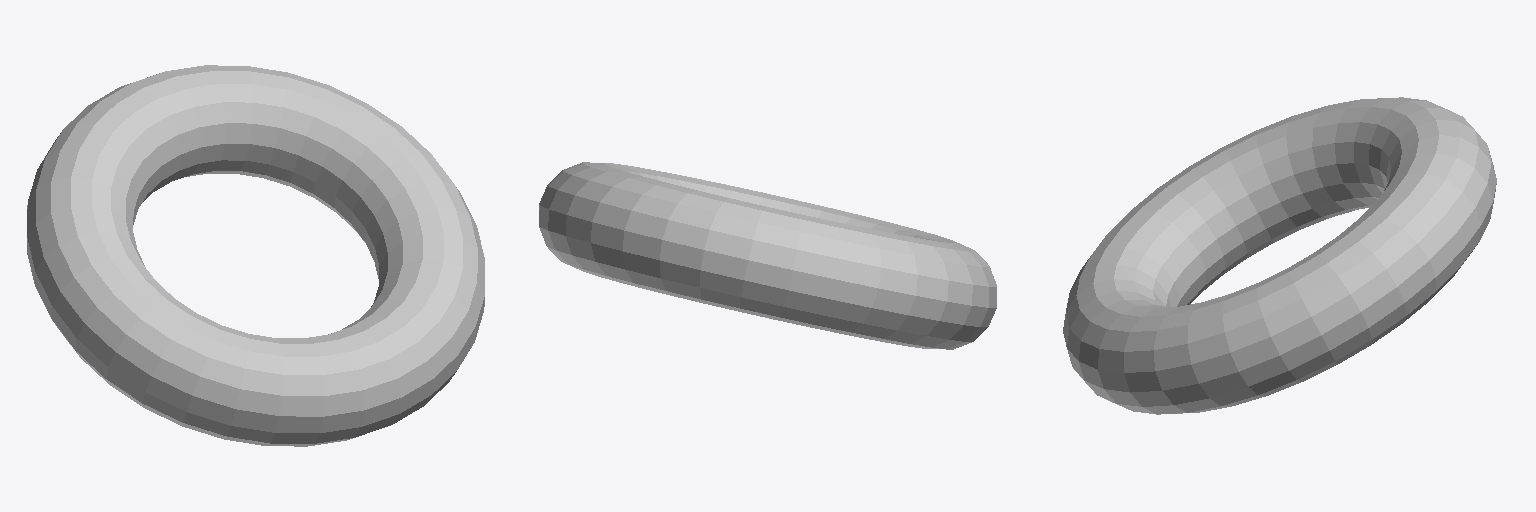
3 views of the same model, side by side, from view 1: azimuth 30°, elevation 25°; view 2: azimuth 150°, elevation 25°; view 3: azimuth 270°, elevation 25° (orthographic).
Visible parts, largest first — view 1: トーラス; view 2: トーラス; view 3: トーラス.
Part boxes in pixels (x1,y1,x2,y2): トーラス: (27,65,484,446); トーラス: (539,162,996,349); トーラス: (1063,97,1496,414).
Size of the model in its own units: 2.6 by 1.48 by 2.4.